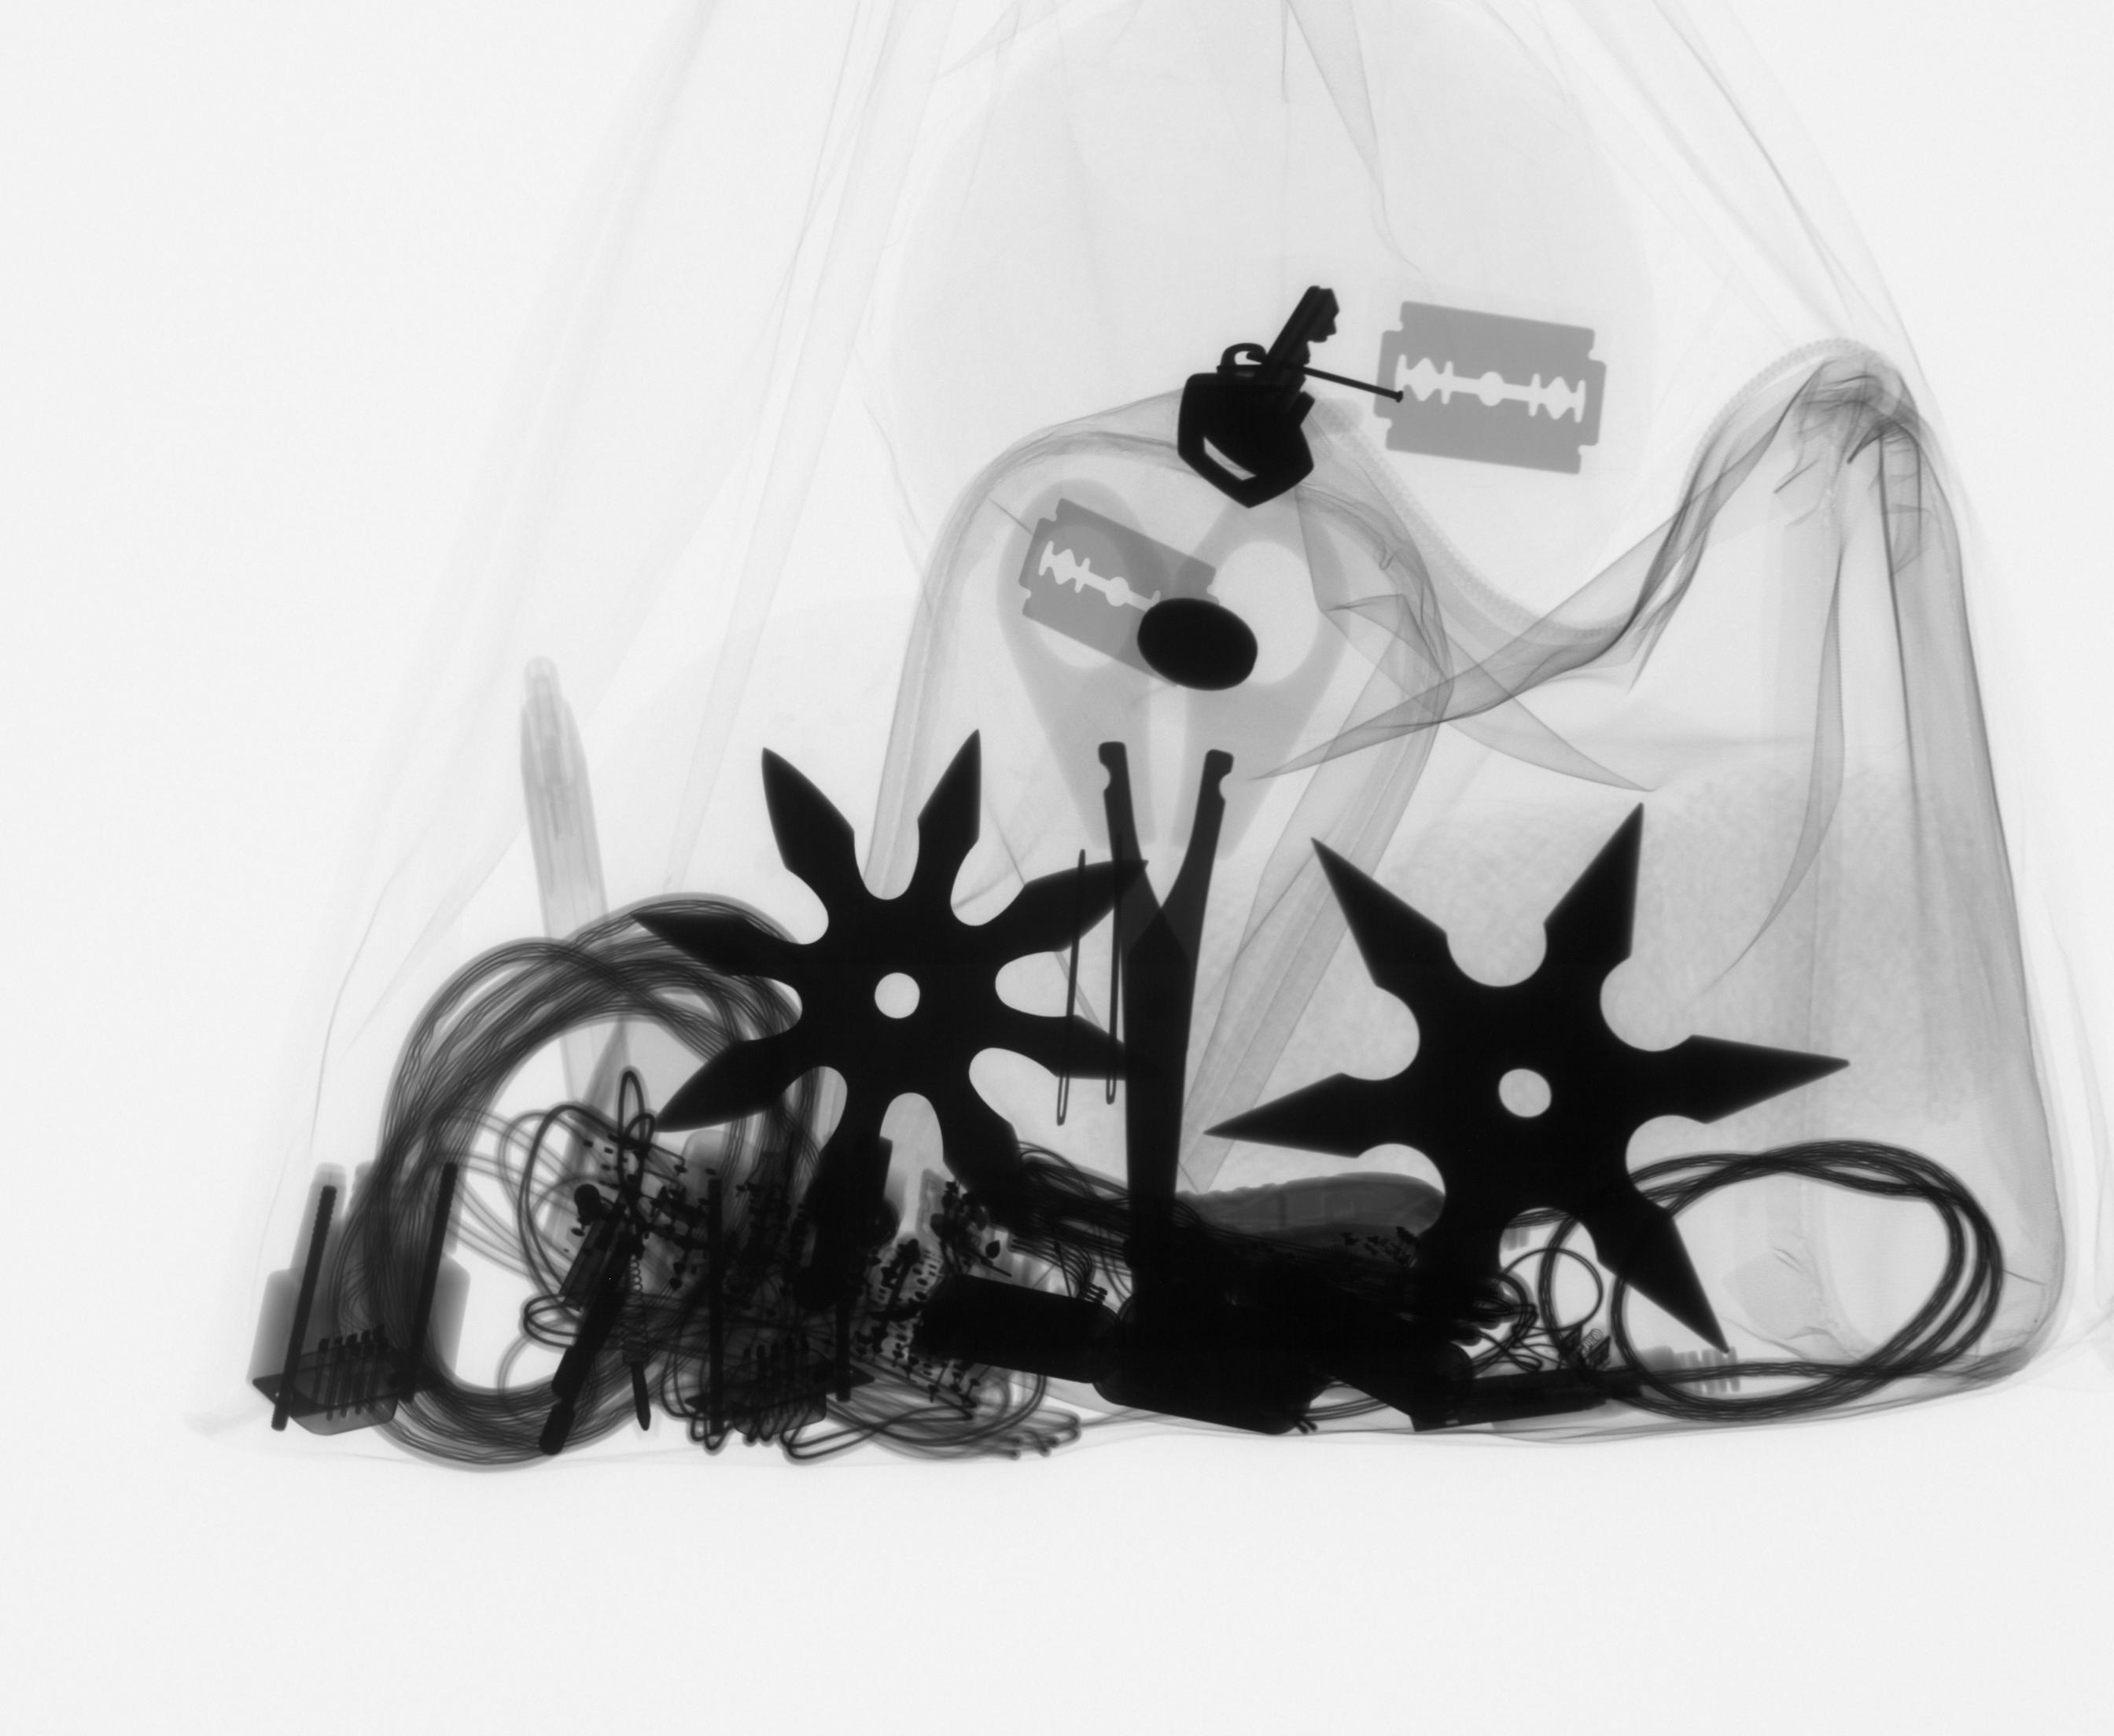RazorBlade: (1363, 284, 1624, 495), (1004, 499, 1217, 679)
Shuriken: (1192, 799, 1859, 1346), (664, 744, 1145, 1169)
